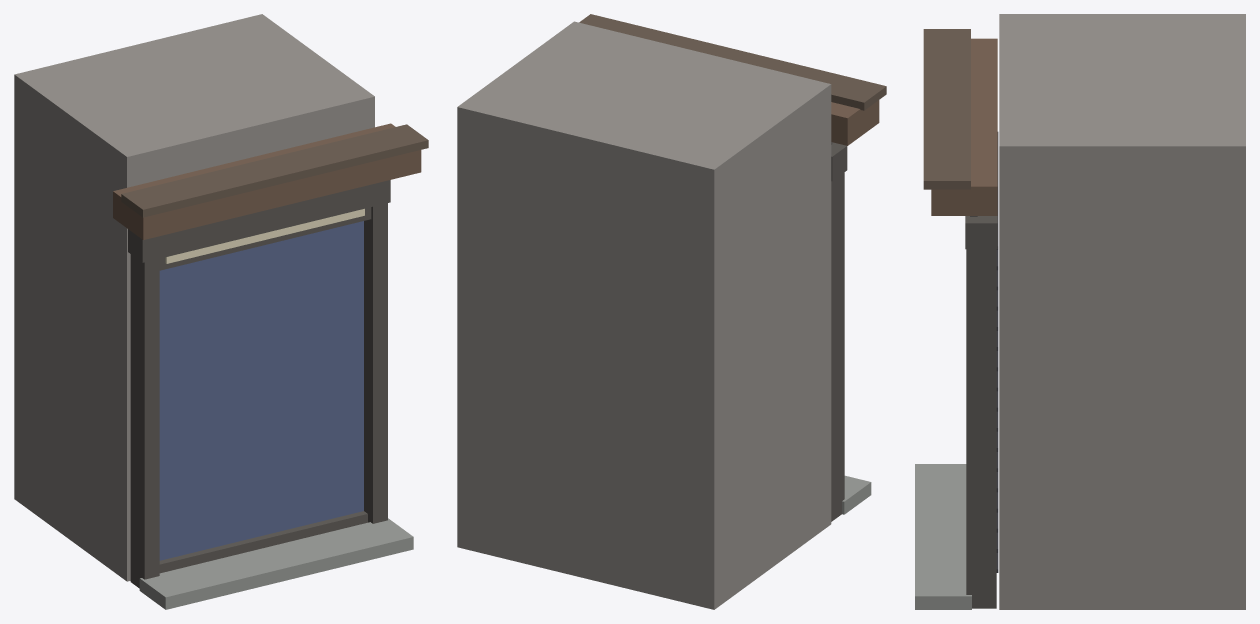
Rendered from prop_shutter_shop_kon.glb.
3 views of the same model, side by side, from view 1: azimuth 30°, elevation 25°; view 2: azimuth 150°, elevation 25°; view 3: azimuth 270°, elevation 25° (orthographic). The views are drawn at different scales.
Parts seen in each view (by area): view 1: shutter_shop_kon; view 2: shutter_shop_kon; view 3: shutter_shop_kon.
Part boxes in pixels (<box>): shutter_shop_kon: <box>14,14,428,609</box>; shutter_shop_kon: <box>457,14,886,609</box>; shutter_shop_kon: <box>915,14,1245,609</box>.
Bounding box in the file's own units: 3.8 × 5.4 × 3.49.
